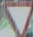Give way: (2, 0, 30, 36)
